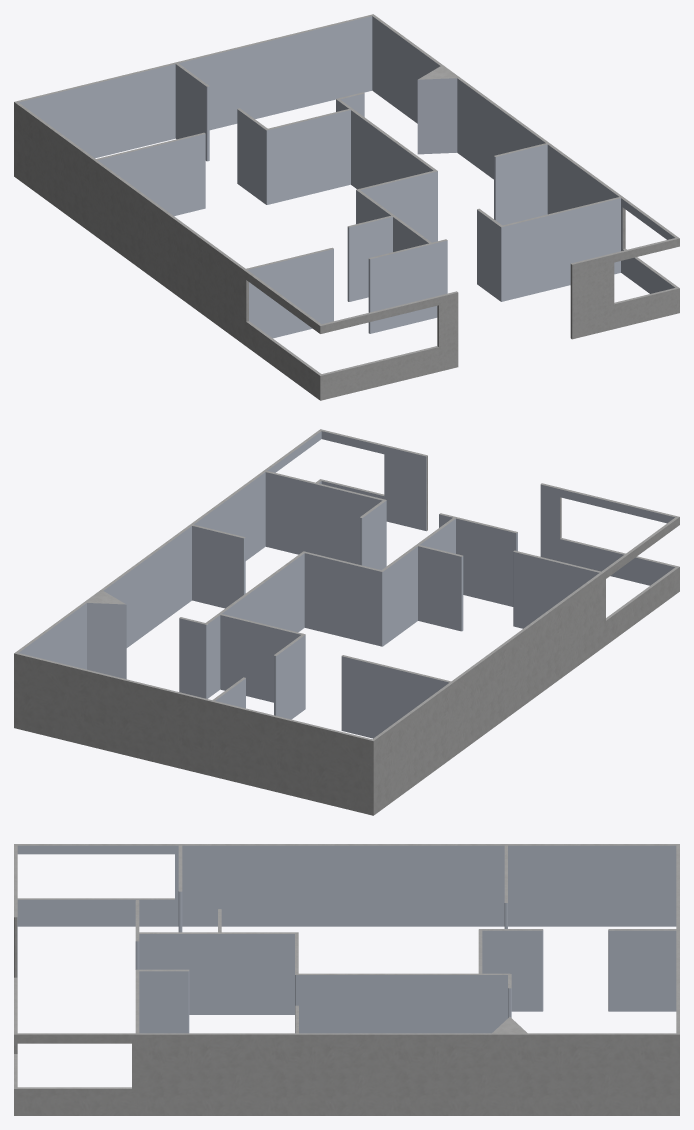
File: walls.gltf
3 renders of one model, top to bottom at view 1: azimuth 30°, elevation 25°; view 2: azimuth 150°, elevation 25°; view 3: azimuth 270°, elevation 25°, orthographic. The views are drawn at different scales.
Parts seen in each view (by area): view 1: walls; view 2: walls; view 3: walls.
Boxes of the visible parts, x1=… form: walls: x1=14, y1=14, x2=679, y2=400; walls: x1=14, y1=429, x2=679, y2=815; walls: x1=14, y1=844, x2=679, y2=1115.
Size of the model in its own units: 12.6 by 2.5 by 18.6.
Materials: 2 (1 with a texture image).
